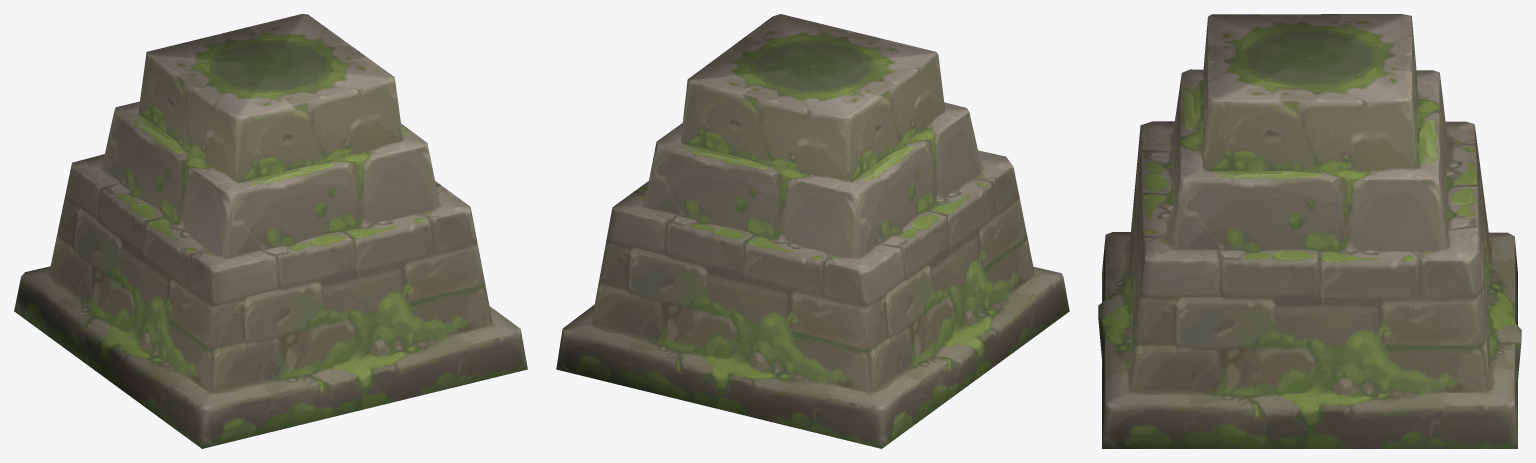
File: shrine_wj001_33.FBX
3 renders of one model, left to right at view 1: azimuth 30°, elevation 25°; view 2: azimuth 150°, elevation 25°; view 3: azimuth 270°, elevation 25°, orthographic. The views are drawn at different scales.
Visible parts, largest first — view 1: shrine_wj001_33; view 2: shrine_wj001_33; view 3: shrine_wj001_33.
Part boxes in pixels (x1=…): shrine_wj001_33: x1=14, y1=14, x2=527, y2=448; shrine_wj001_33: x1=556, y1=14, x2=1069, y2=448; shrine_wj001_33: x1=1098, y1=14, x2=1521, y2=448.
Size of the model in its own units: 129 by 101 by 128.
Materials: 1 (1 with a texture image).
